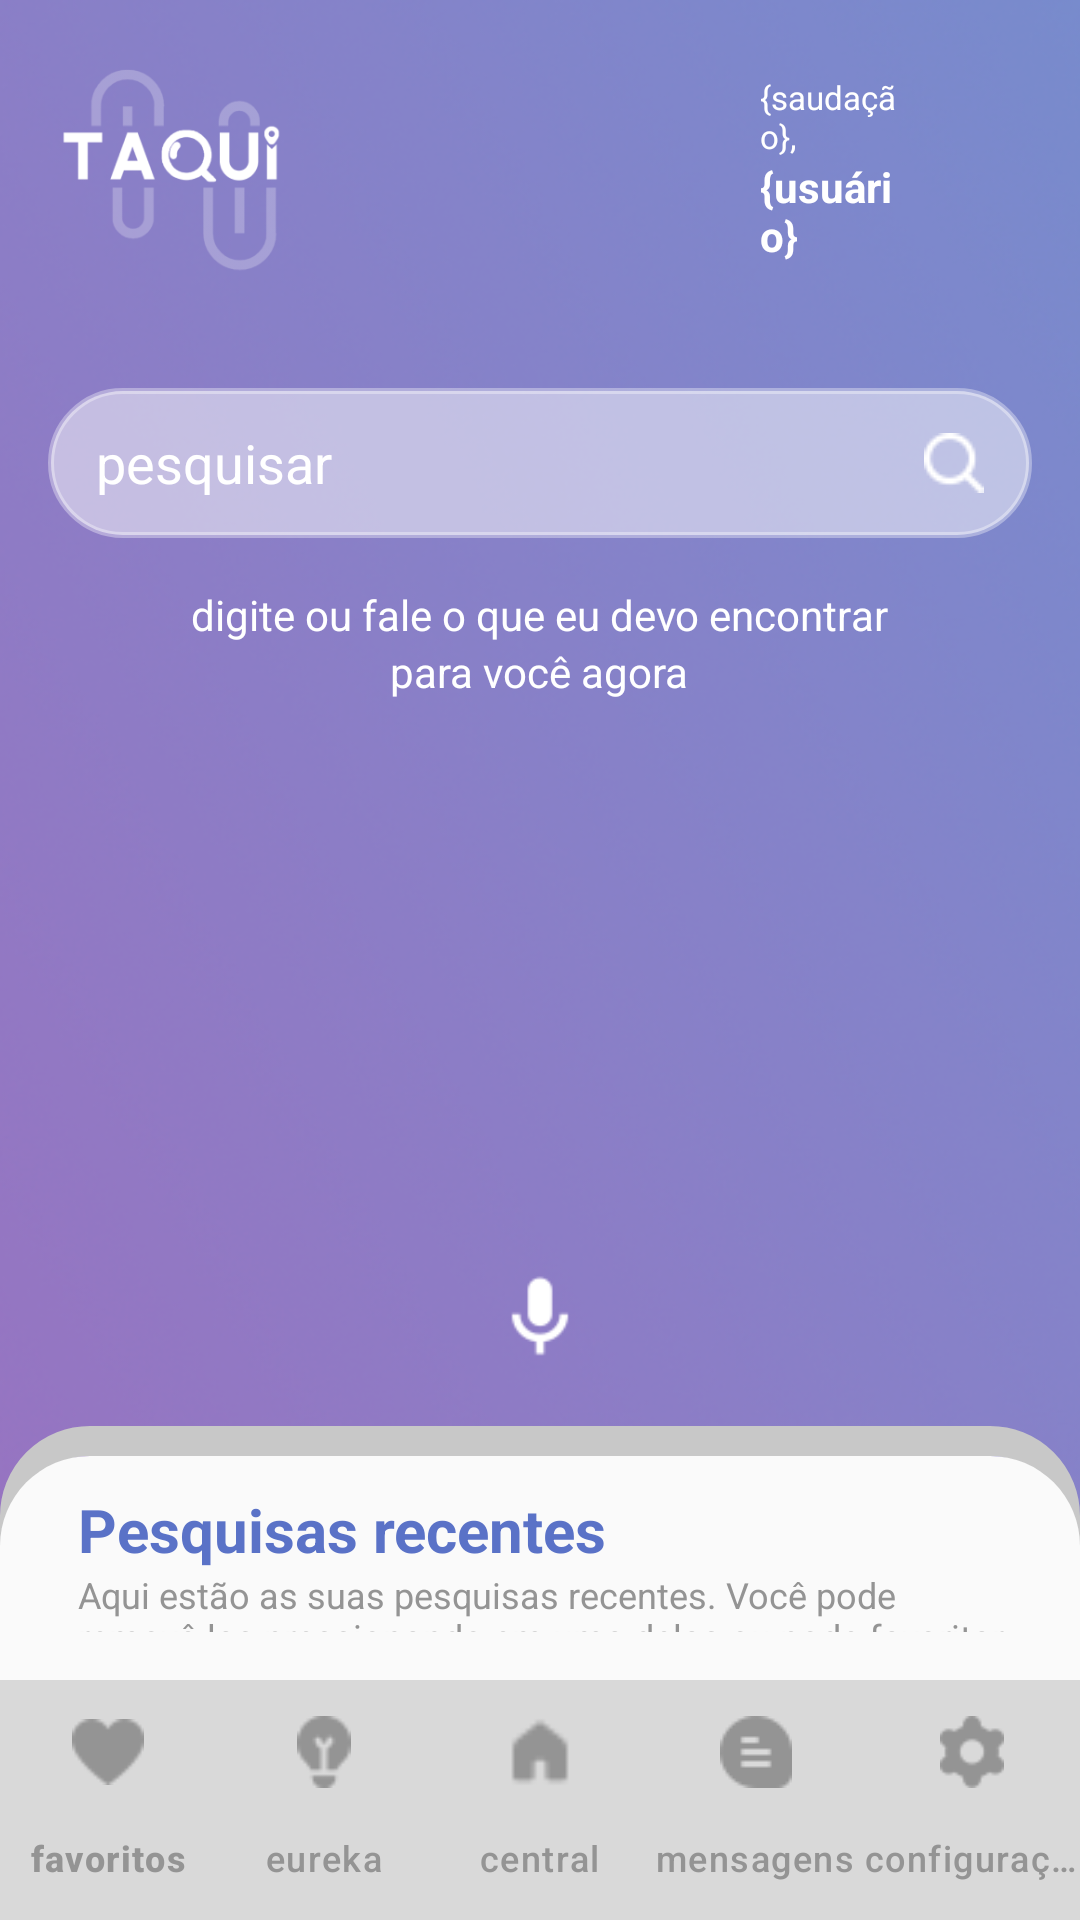

Screen size 1080×1920. Icon name, then its center in pixels as (x,y):
Microfone: (540,1316)
